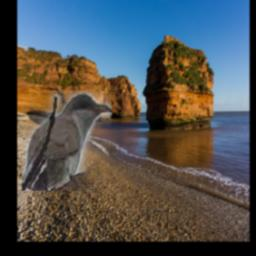Cuckoo: (23, 91, 113, 192)
